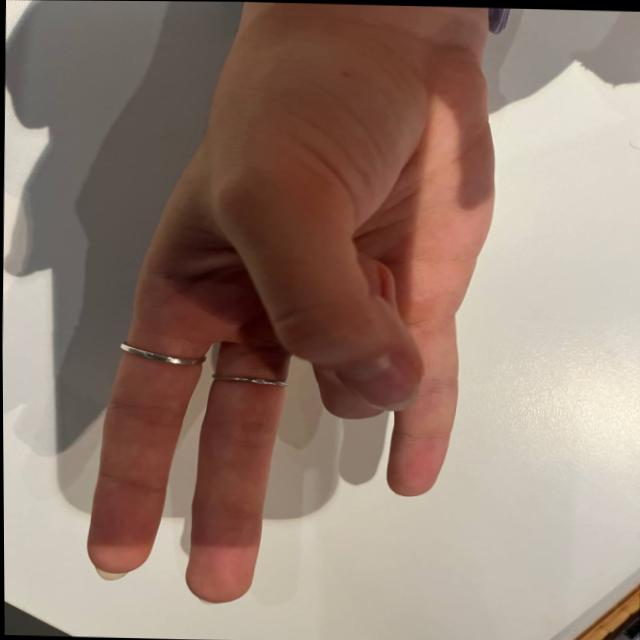n: (78, 53, 516, 611)
